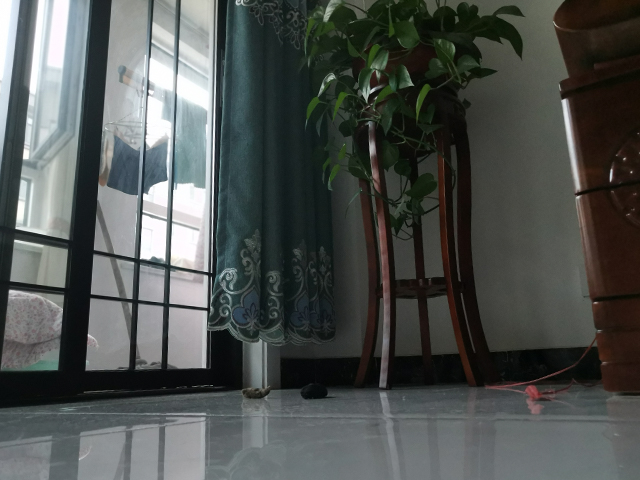curtain: (205, 1, 340, 347)
feces: (298, 381, 329, 401), (239, 385, 272, 400)
